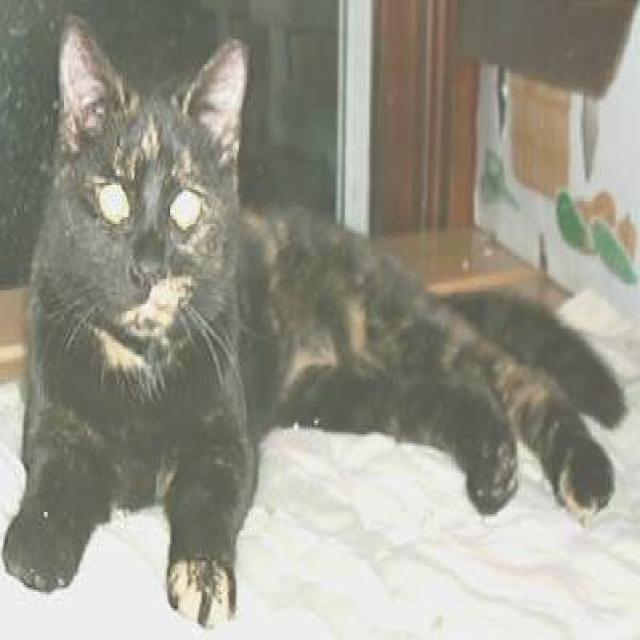cat: (2, 11, 627, 626)
